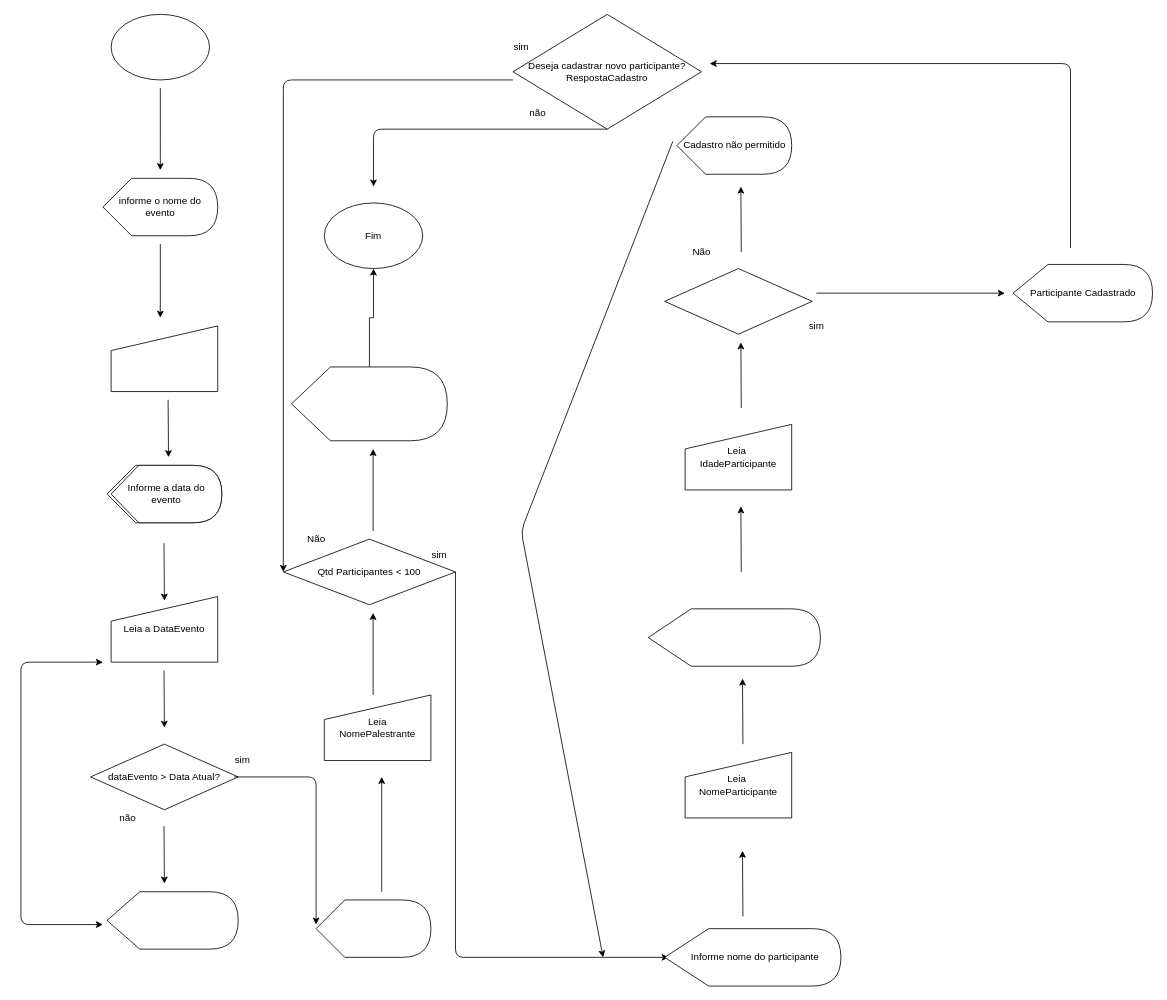
Image size: 1167x1000. Some labels were removed from this diagram. The centre of each missing label's shape, as x and y in pixels:
"Atingido o número máximo de participantes" goes at (369,403).
"Data do evento deve ser maior que a atual" goes at (172,920).
"Idade participante > 18" goes at (738,301).
"Informe a idade do participante" goes at (733,637).
"Informe o Nome do Palestrante" goes at (373,928).
"Inicio" goes at (160,47).
"LEIA O nomeEvento" goes at (164,358).
